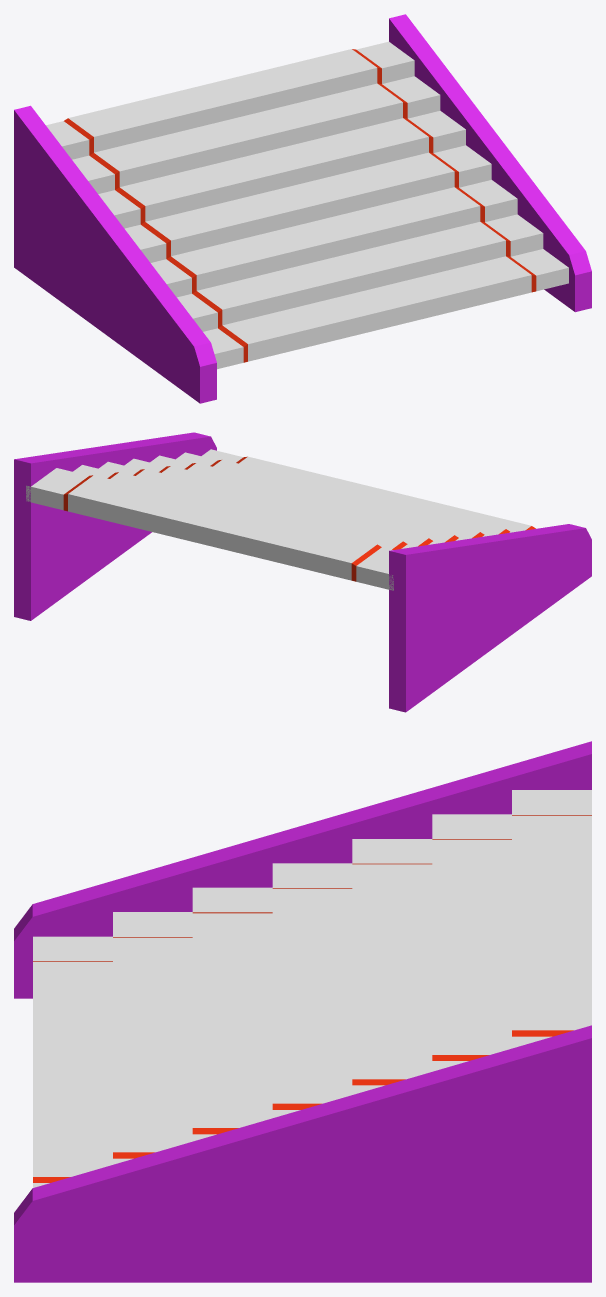
Rendered from Staircase.001.fbx.
The picture shows the model from 3 angles, top to bottom: view 1: azimuth 30°, elevation 25°; view 2: azimuth 150°, elevation 25°; view 3: azimuth 270°, elevation 25°; orthographic projection. The views are drawn at different scales.
Visible parts, largest first — view 1: Staircase.001; view 2: Staircase.001; view 3: Staircase.001.
Boxes of the visible parts, left/top/right/bottom form: Staircase.001: left=14, top=14, right=591, bottom=403; Staircase.001: left=14, top=432, right=591, bottom=712; Staircase.001: left=14, top=741, right=591, bottom=1282.
Size of the model in its own units: 3.78 by 1.45 by 3.11.
